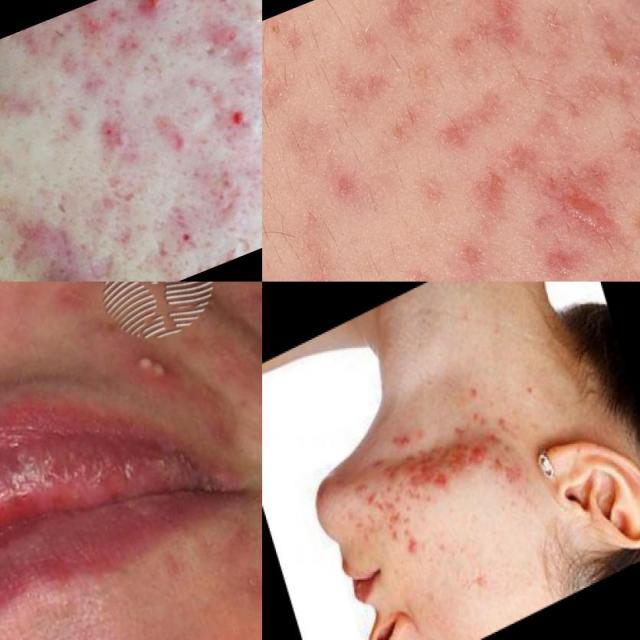Pimples: (539, 146, 640, 270), (0, 197, 86, 277), (406, 426, 476, 504), (122, 332, 178, 394), (359, 486, 406, 544), (148, 188, 198, 242), (466, 0, 528, 39), (462, 426, 502, 476), (21, 260, 96, 282), (78, 244, 118, 282), (394, 525, 426, 564), (104, 218, 137, 252)
